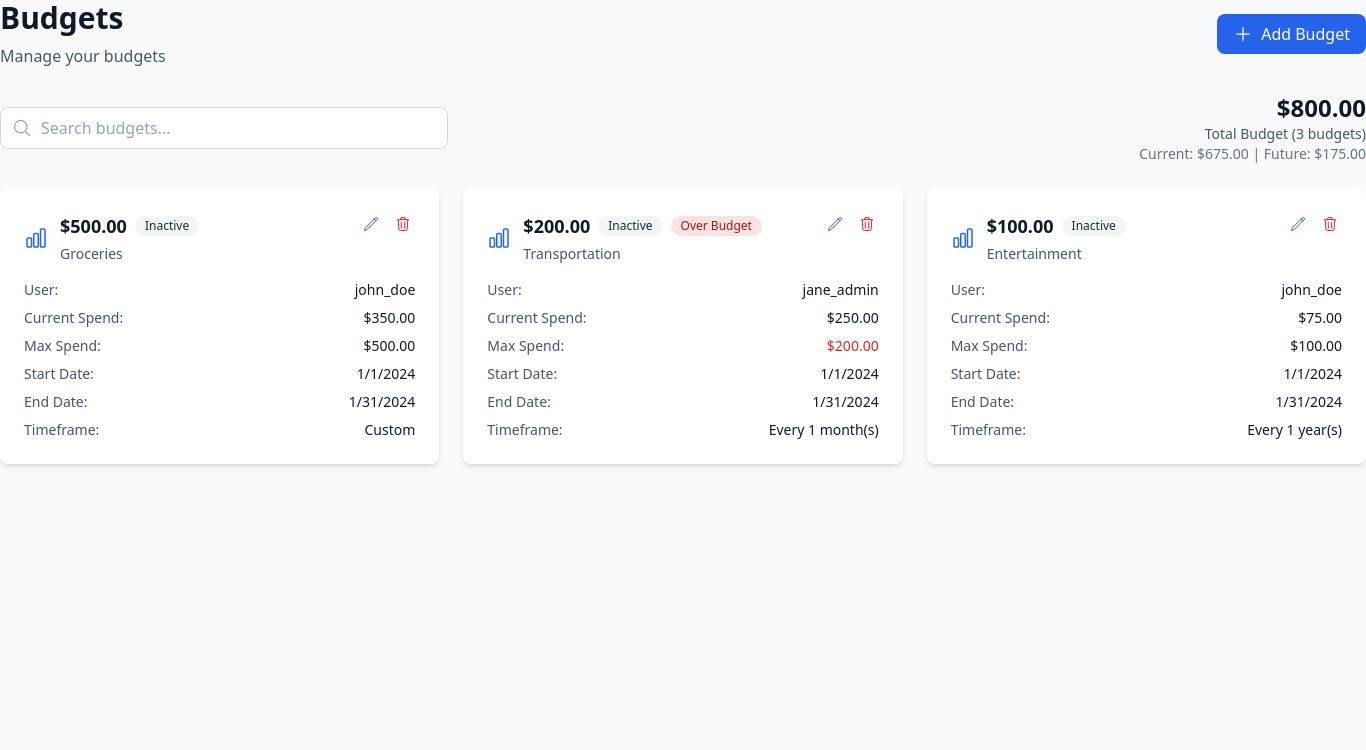
Test case: Budgets › CRUD Operations › opens edit budget modal when edit button is clicked
The width and height of the screenshot is (1366, 750).
What coordinates should you click on to do the following:
click the 2nd button
I would click on:
 (371, 224)
Its box is [359,212,383,236].
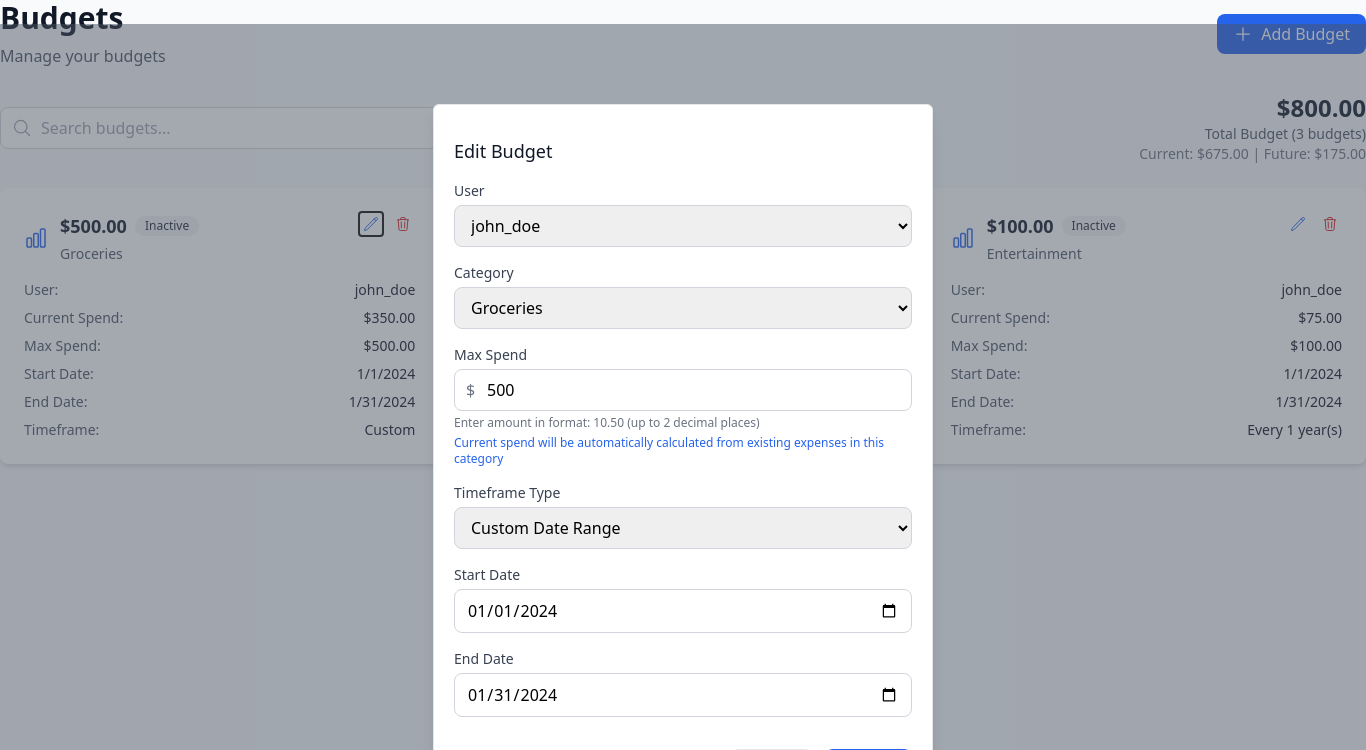
Now the heading "Edit Budget" is shown, box [454,139,552,163]
Now the field with placeholder "0.00" is shown, box [454,369,912,411]
